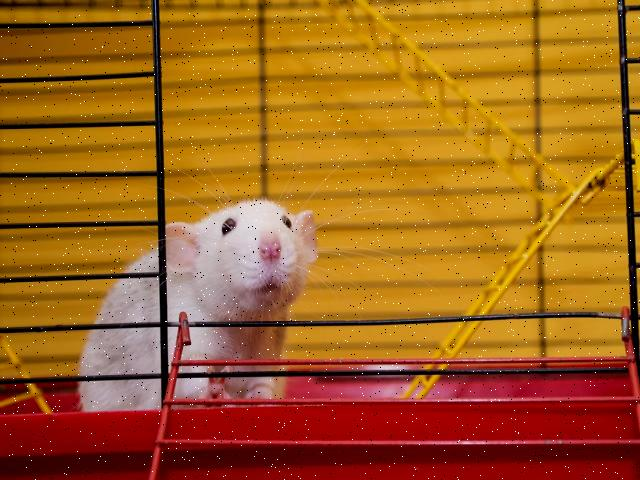Tikus: (79, 198, 319, 415)
